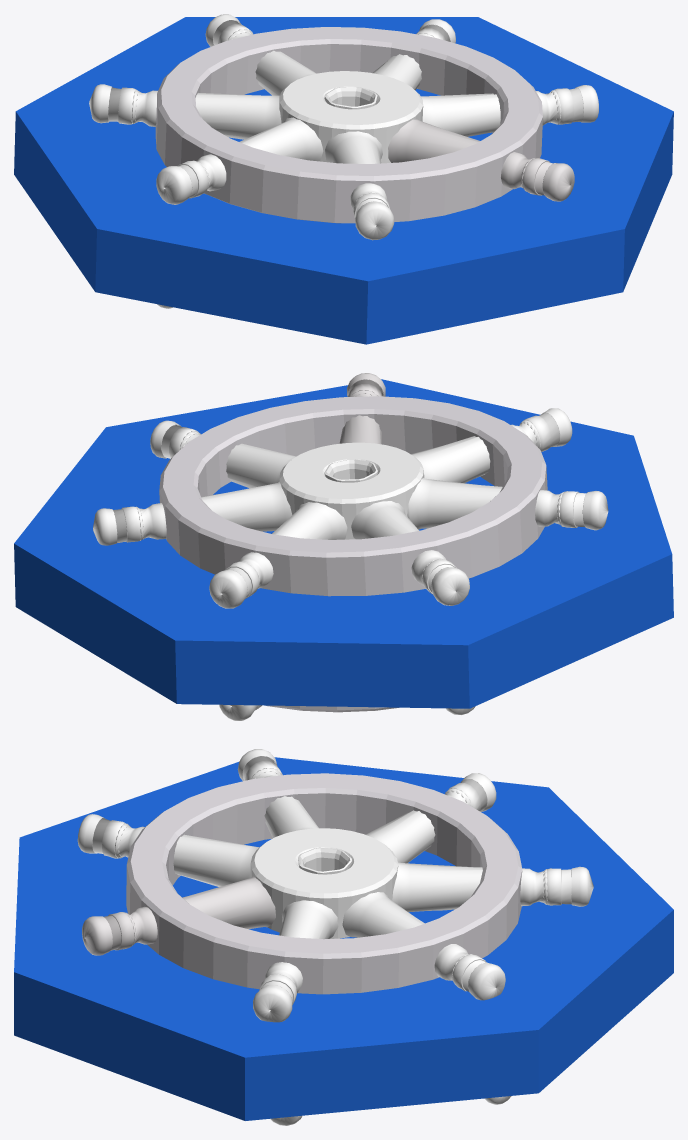
File: kube.glb
3 views of the same model, one above another, from view 1: azimuth 30°, elevation 25°; view 2: azimuth 150°, elevation 25°; view 3: azimuth 270°, elevation 25° (orthographic). The views are drawn at different scales.
Visible parts, largest first — view 1: Circle.002, Circle.001, Circle.003, Plane.003, Plane.006, Plane, Plane.004, Plane.005, Plane.002, Plane.001, Circle.005; view 2: Circle.002, Circle.001, Circle.003, Plane.004, Plane.001, Plane.002, Plane.005, Plane.003, Plane, Plane.006, Circle.005, Circle.004; view 3: Circle.002, Circle.001, Circle.003, Plane.002, Plane.006, Plane.005, Plane.001, Plane, Plane.003, Plane.004, Circle.005.
Boxes of the visible parts, x1,y1,x2,y2 form: Circle.002: [14, 17, 673, 344]; Circle.001: [155, 27, 542, 223]; Circle.003: [279, 71, 423, 163]; Plane.003: [89, 84, 281, 139]; Plane.006: [388, 119, 574, 201]; Plane: [421, 85, 598, 136]; Plane.004: [156, 117, 323, 204]; Plane.005: [325, 131, 394, 240]; Plane.002: [205, 14, 316, 95]; Plane.001: [372, 19, 455, 90]; Circle.005: [324, 87, 377, 109]; Circle.002: [14, 379, 673, 708]; Circle.001: [159, 396, 547, 596]; Circle.003: [279, 442, 424, 539]; Plane.004: [407, 478, 608, 530]; Plane.001: [93, 481, 292, 545]; Plane.002: [209, 502, 347, 608]; Plane.005: [411, 408, 572, 483]; Plane.003: [351, 501, 469, 605]; Plane: [150, 420, 295, 488]; Plane.006: [339, 373, 385, 444]; Circle.005: [324, 459, 377, 482]; Circle.004: [266, 705, 398, 712]; Circle.002: [14, 757, 673, 1120]; Circle.001: [126, 773, 522, 994]; Circle.003: [250, 828, 398, 938]; Plane.002: [392, 862, 593, 912]; Plane.006: [82, 876, 275, 955]; Plane.005: [77, 814, 259, 886]; Plane.001: [342, 892, 505, 1000]; Plane: [253, 900, 338, 1022]; Plane.003: [366, 773, 496, 863]; Plane.004: [237, 749, 318, 837]; Circle.005: [298, 847, 352, 874].
Bounding box in the file's own units: 8.69 × 2.47 × 8.49.
